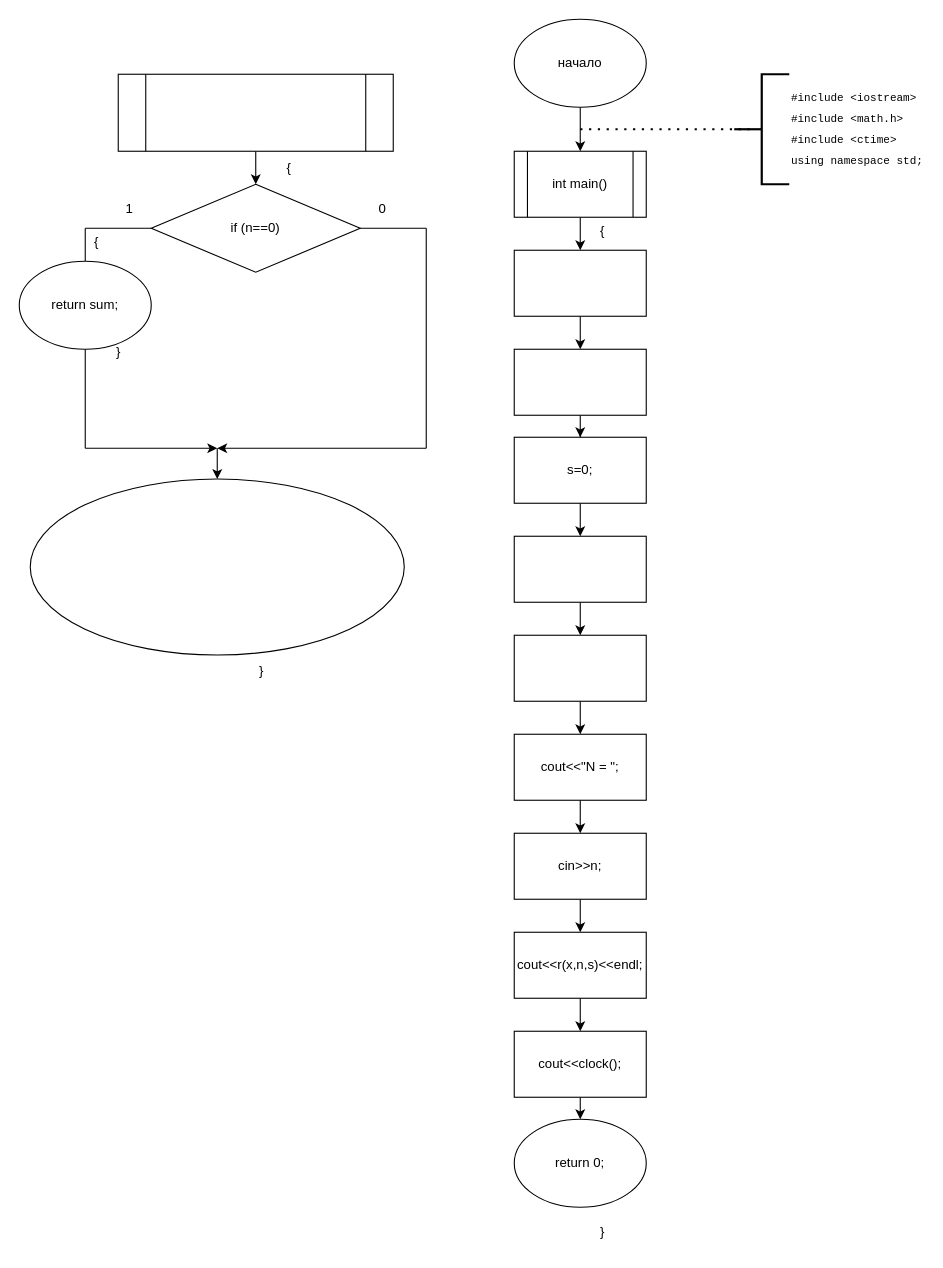
Some shapes in this 943 by 1268 pixel diagram are drawn without their labels. The box of each missing label's shape, as (x1, y1, x2, y2) in pixels:
cin>>x;: (513, 634, 646, 701)
cout<<"X = ";: (513, 535, 646, 602)
float r(float x,int n, float sum): (117, 73, 393, 151)
float s,x;: (513, 348, 646, 415)
int n;: (513, 249, 646, 316)
return r(x,n-1,sum+pow((-1),n)*cos(n*x)/pow(n,2));: (29, 478, 404, 655)
